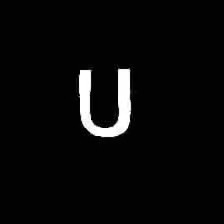LTR_U: (70, 59, 140, 142)
